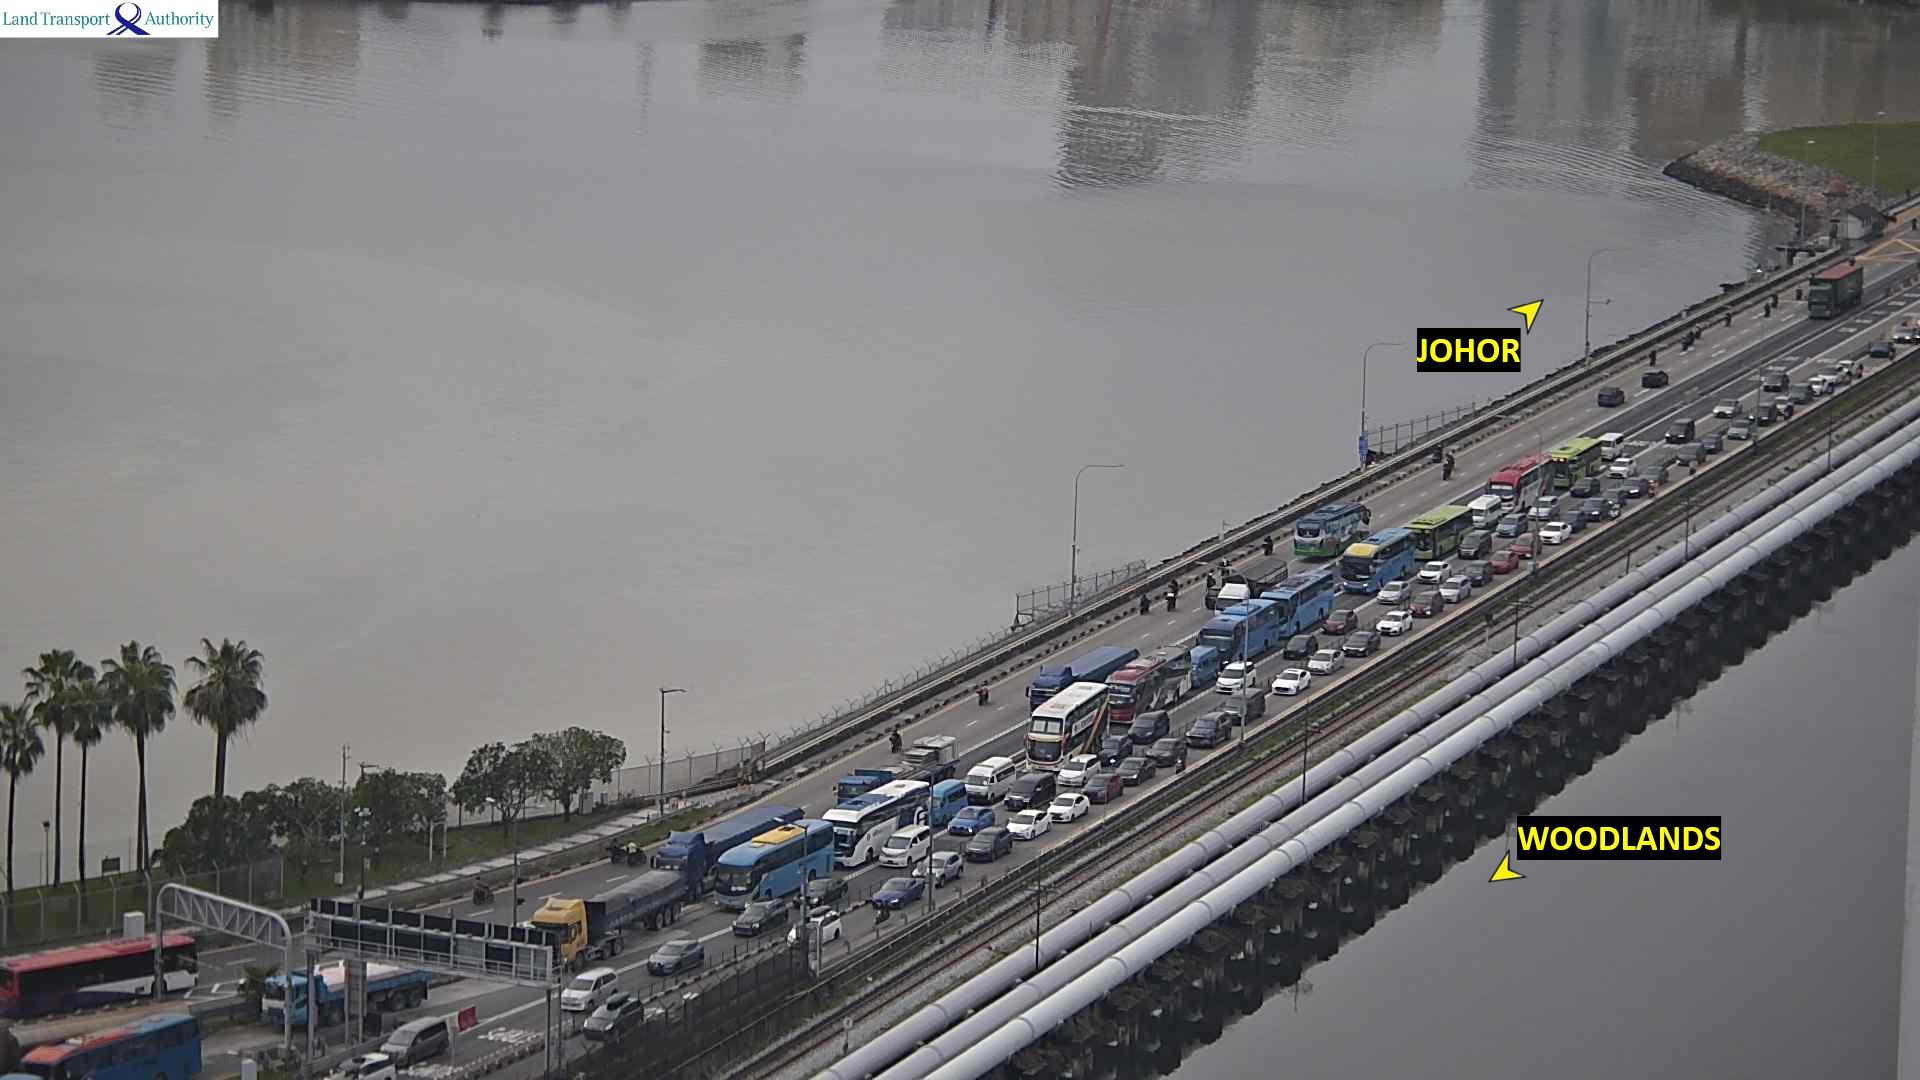vehicle-causeway-johor: (0, 931, 195, 1020), (1599, 384, 1623, 407), (472, 877, 491, 904), (627, 840, 648, 864), (1641, 369, 1668, 387), (1165, 579, 1178, 611), (606, 838, 624, 860), (890, 725, 902, 754), (976, 684, 989, 705), (1140, 594, 1151, 616), (1444, 453, 1453, 479), (1264, 535, 1273, 555), (1681, 334, 1689, 349), (1650, 349, 1657, 366), (1724, 312, 1732, 326), (1771, 293, 1778, 307), (1911, 216, 1916, 232), (1765, 303, 1770, 318), (1796, 288, 1802, 298), (1850, 255, 1857, 263)
vehicle-causeway-singapore: (532, 871, 687, 968), (655, 805, 805, 903), (263, 962, 428, 1030), (21, 1013, 199, 1075), (713, 820, 833, 910), (820, 781, 930, 869), (837, 736, 960, 807), (1029, 648, 1139, 718), (1025, 683, 1110, 769), (1105, 645, 1192, 722), (1260, 568, 1334, 638), (1199, 599, 1279, 663), (1341, 528, 1414, 593), (1487, 455, 1554, 511), (1403, 505, 1469, 559), (381, 1016, 447, 1069), (1810, 266, 1864, 317), (584, 998, 643, 1039), (559, 968, 618, 1008), (786, 907, 841, 949), (1552, 437, 1601, 484), (965, 755, 1015, 801), (647, 939, 704, 976), (878, 825, 930, 865), (732, 900, 789, 936), (323, 1053, 396, 1080), (911, 851, 963, 887), (1006, 773, 1055, 809), (872, 877, 925, 910), (965, 827, 1013, 863), (1185, 711, 1232, 747), (932, 781, 965, 827), (795, 879, 846, 907), (1058, 753, 1101, 786), (1223, 689, 1265, 722), (1131, 709, 1169, 744), (1079, 774, 1123, 803), (1112, 756, 1156, 785), (947, 807, 994, 834), (1046, 794, 1089, 823), (1144, 738, 1187, 767), (1189, 645, 1219, 686), (1008, 811, 1051, 839), (1272, 666, 1311, 695), (1467, 495, 1501, 528), (1456, 530, 1491, 558), (1341, 631, 1381, 655), (1408, 590, 1444, 616), (1376, 610, 1412, 635), (1307, 648, 1344, 672), (1459, 560, 1492, 585), (1441, 574, 1470, 601), (1377, 581, 1411, 603), (1511, 532, 1542, 556), (1665, 419, 1694, 444), (1417, 561, 1451, 582), (1530, 496, 1559, 520), (1539, 521, 1571, 542), (1580, 498, 1610, 520), (1619, 475, 1649, 497), (1496, 515, 1526, 537), (1491, 549, 1520, 571), (1608, 458, 1638, 479), (1598, 433, 1623, 458), (1677, 443, 1705, 465), (1558, 509, 1586, 530), (1748, 404, 1777, 424), (1571, 477, 1599, 497), (1713, 399, 1742, 417), (1764, 372, 1789, 391), (1729, 420, 1754, 439), (1641, 467, 1668, 484), (1869, 340, 1894, 358), (872, 900, 890, 924), (1599, 489, 1623, 506), (1894, 325, 1917, 342), (1792, 384, 1811, 404), (1703, 433, 1723, 450), (1808, 377, 1827, 394), (1839, 361, 1860, 374), (1775, 397, 1789, 414)
